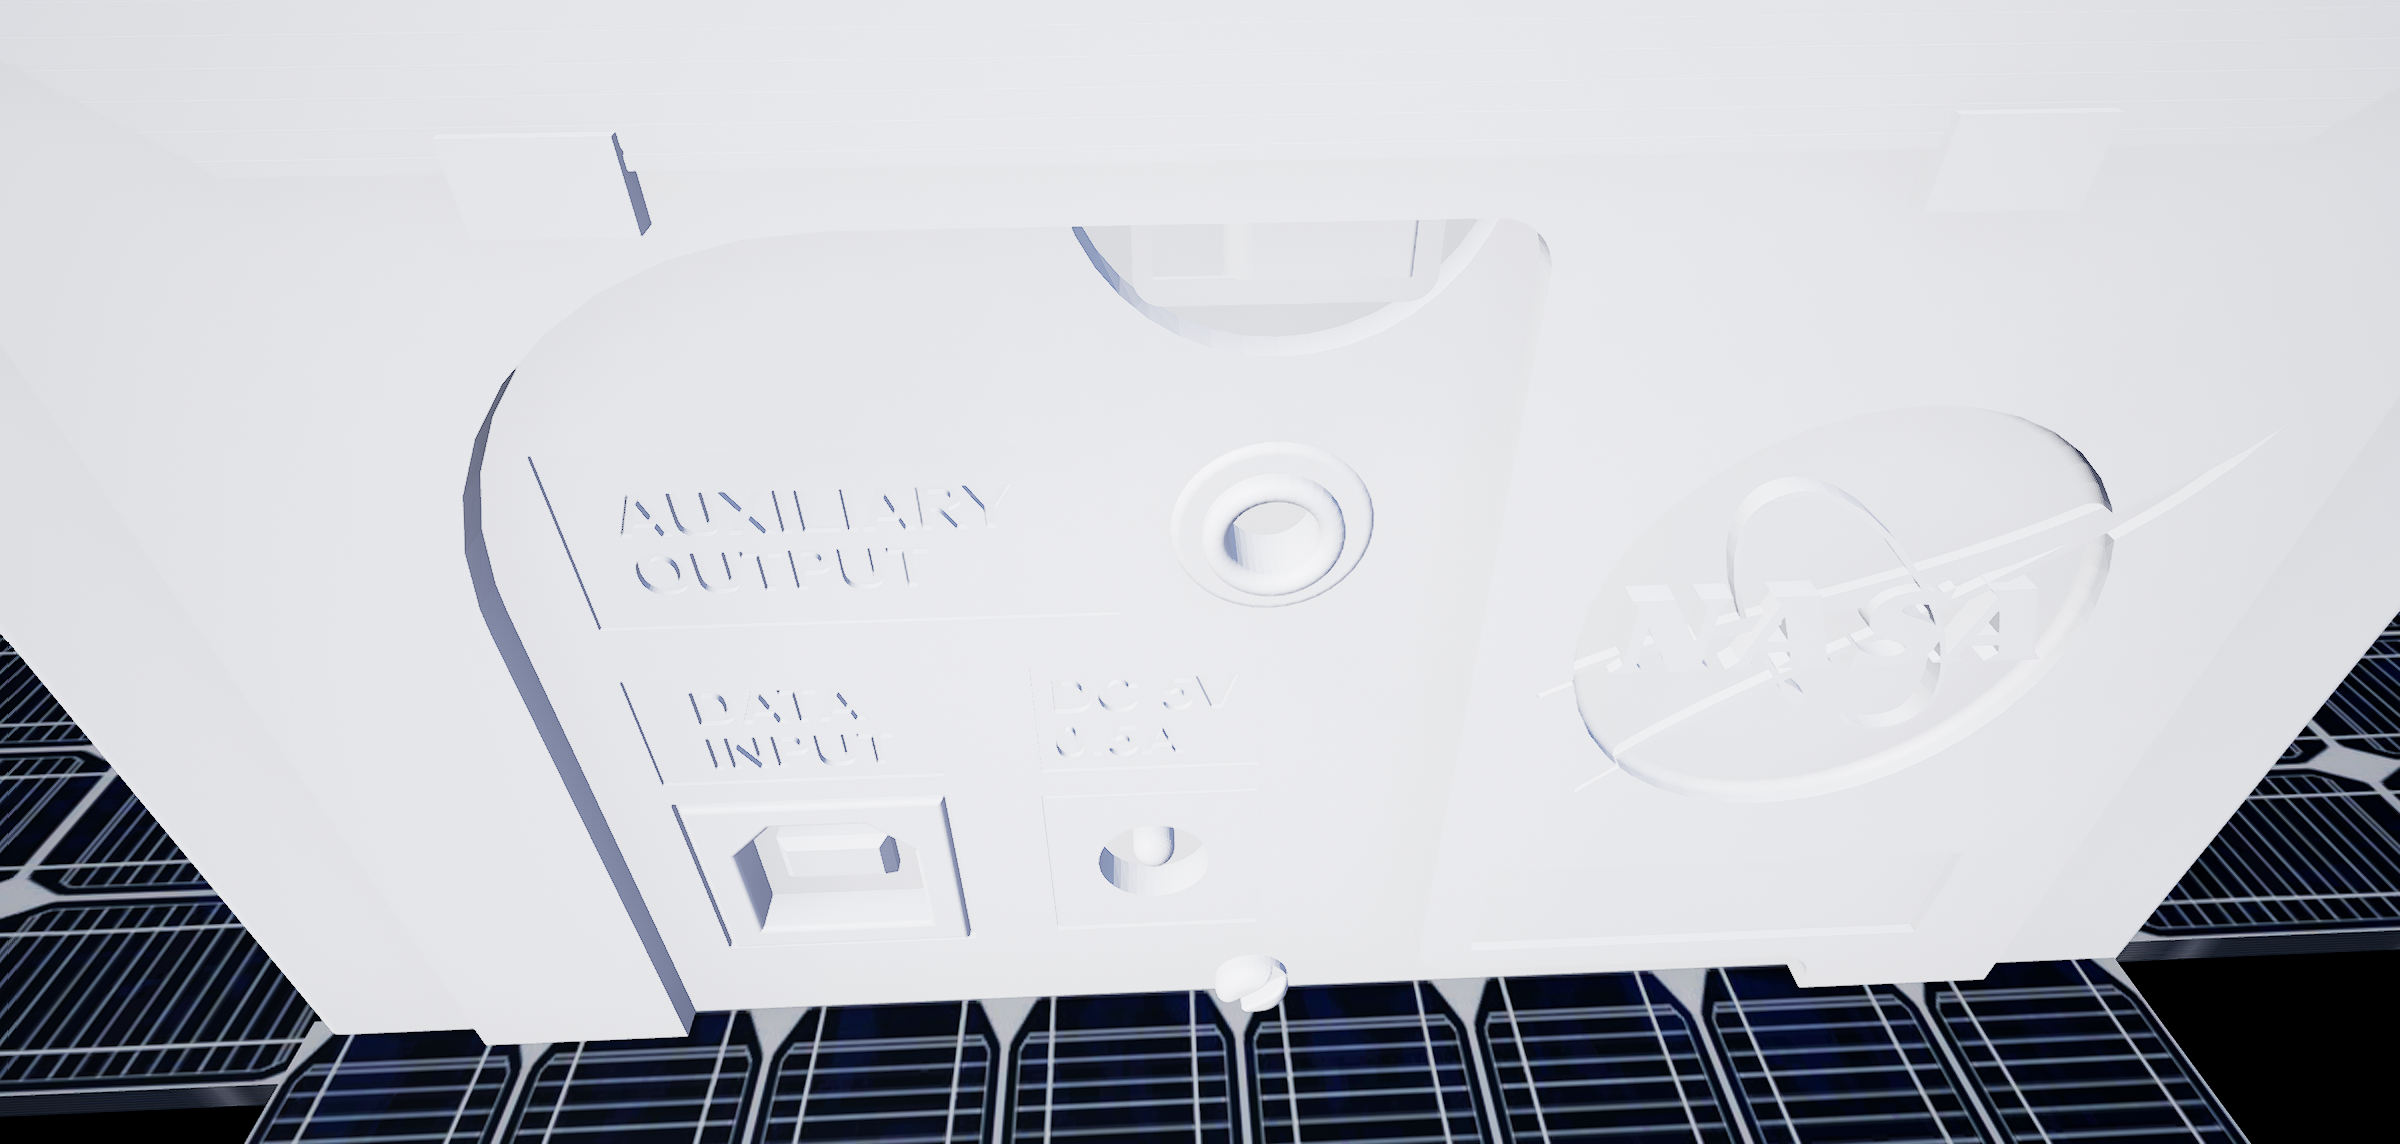aux: (1146, 435, 1410, 617)
dc: (1085, 810, 1205, 907)
usb: (726, 824, 937, 930)
